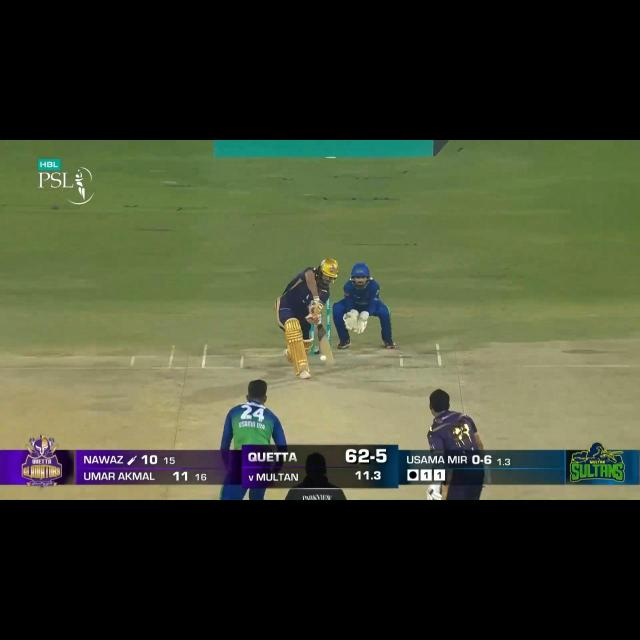bat: (316, 327, 336, 366)
toe: (322, 354, 336, 365)
